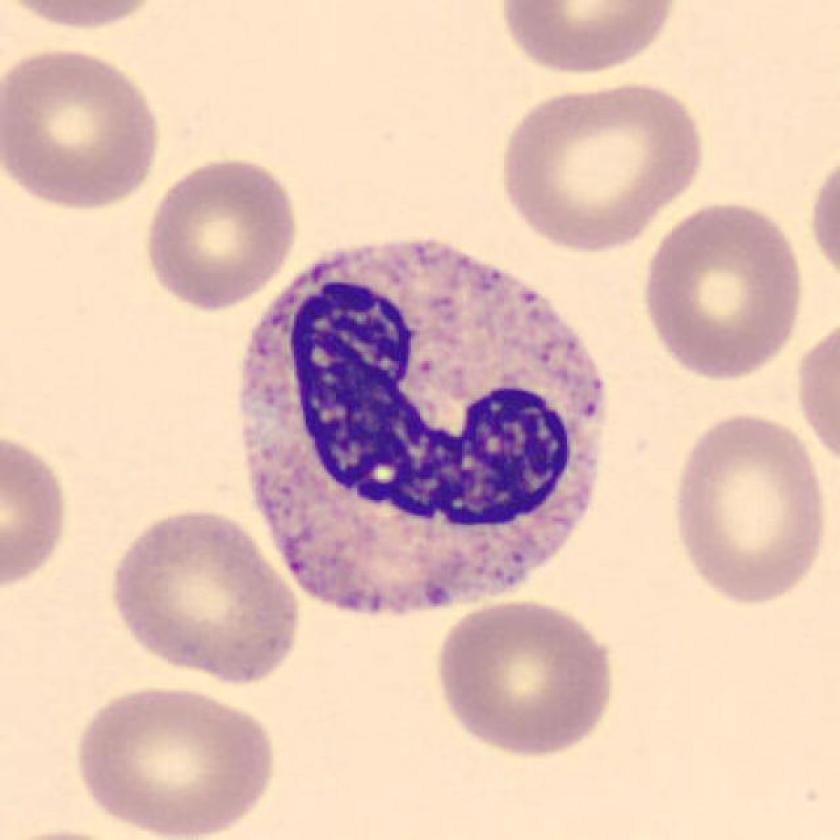neutrophil: (248, 242, 605, 610)
